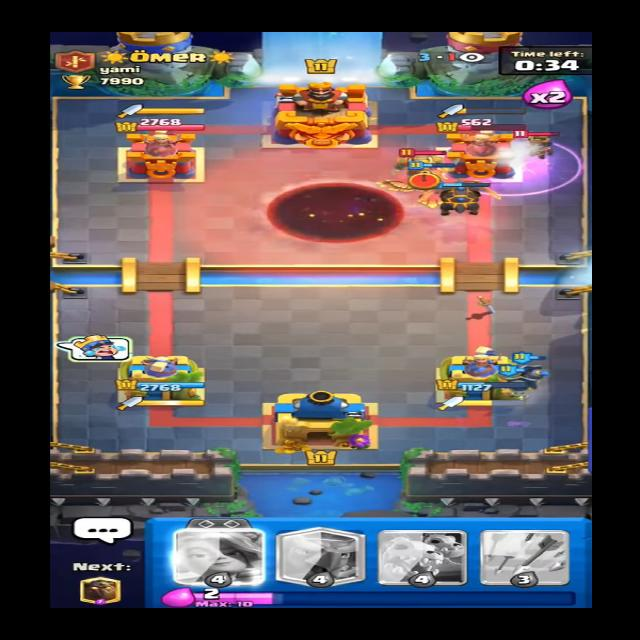knight: (390, 142, 454, 186)
little-prince: (517, 125, 566, 163)
